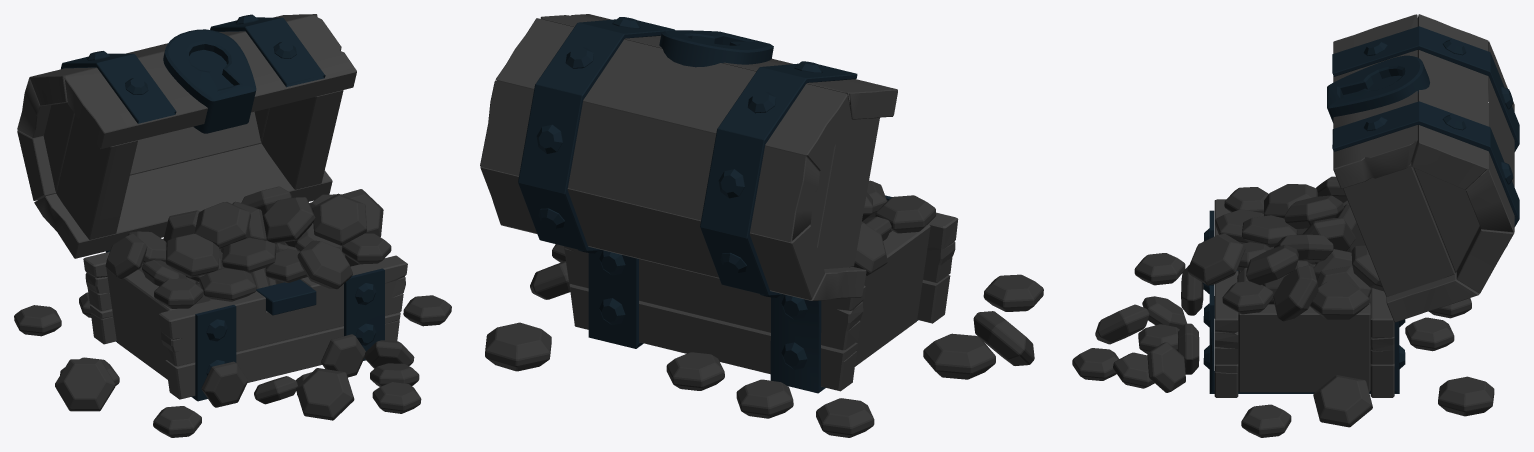
File: ARK_FREE_CHEST.FBX
3 views of the same model, side by side, from view 1: azimuth 30°, elevation 25°; view 2: azimuth 150°, elevation 25°; view 3: azimuth 270°, elevation 25° (orthographic). The views are drawn at different scales.
Parts seen in each view (by area): view 1: Chest_Top_Wood, GEMS, Chest_Bottom_Wood, Chest_Top_Key, Chest_Top_Belt, Chest_Bottom_Belt, Chest_Bottom_Key, Chest_Bottom_Bolt, Chest_Top_Bolt; view 2: Chest_Top_Wood, Chest_Bottom_Wood, Chest_Top_Belt, GEMS, Chest_Bottom_Belt, Chest_Top_Bolt, Chest_Top_Key, Chest_Bottom_Bolt; view 3: GEMS, Chest_Top_Wood, Chest_Bottom_Wood, Chest_Top_Belt, Chest_Top_Key, Chest_Top_Bolt, Chest_Bottom_Belt, Chest_Bottom_Bolt.
Part boxes in pixels (x1,y1,x2,y2): Chest_Top_Wood: (17,14,356,258); GEMS: (14,186,451,437); Chest_Bottom_Wood: (83,202,407,399); Chest_Top_Key: (163,29,256,133); Chest_Top_Belt: (61,17,325,252); Chest_Bottom_Belt: (106,250,384,401); Chest_Bottom_Key: (256,279,316,315); Chest_Bottom_Bolt: (206,283,376,375); Chest_Top_Bolt: (87,14,296,94); Chest_Top_Wood: (480,14,897,300); Chest_Bottom_Wood: (563,200,958,391); Chest_Top_Belt: (518,19,857,295); GEMS: (485,180,1043,437); Chest_Bottom_Belt: (588,195,918,393); Chest_Top_Bolt: (536,17,822,297); Chest_Top_Key: (659,30,773,67); Chest_Bottom_Bolt: (599,250,807,369); GEMS: (1072,176,1494,437); Chest_Top_Wood: (1333,14,1514,322); Chest_Bottom_Wood: (1214,199,1394,397); Chest_Top_Belt: (1332,26,1519,226); Chest_Top_Key: (1327,55,1429,122); Chest_Top_Bolt: (1363,39,1513,245); Chest_Bottom_Belt: (1209,210,1399,393); Chest_Bottom_Bolt: (1203,228,1405,369).
Size of the model in its own units: 29.25 by 28.22 by 19.71.
